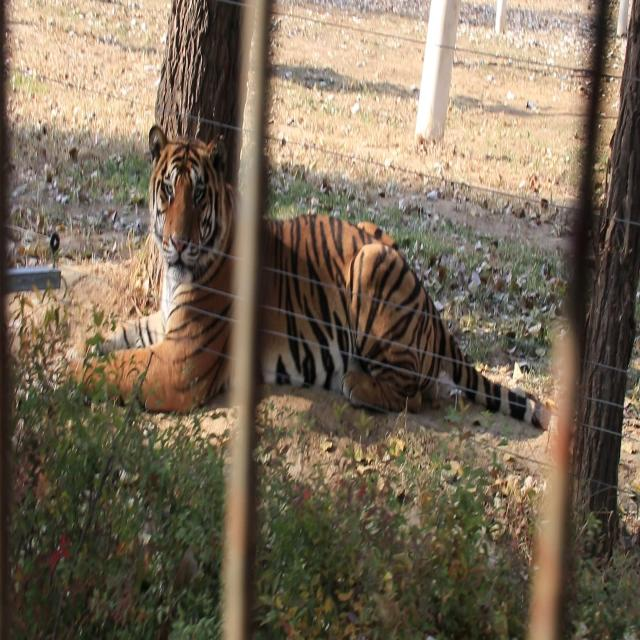Tiger: (61, 110, 560, 452)
